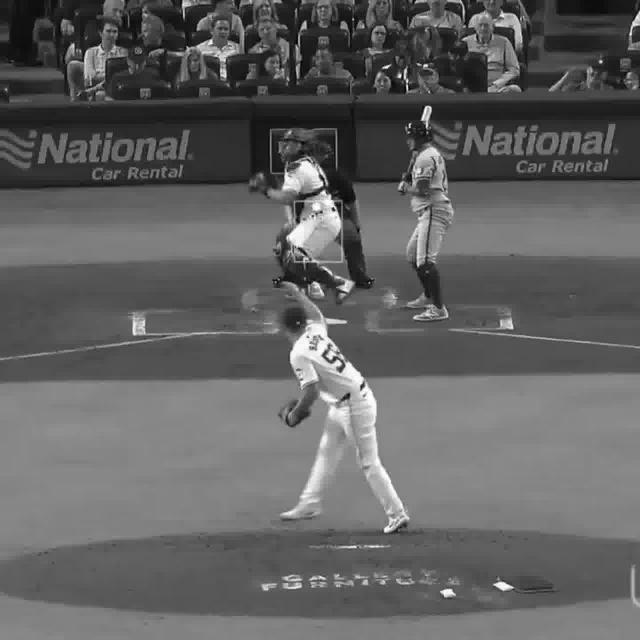base: (323, 313, 349, 325)
baseball_glove: (280, 398, 308, 432), (248, 171, 277, 195)
bat: (396, 99, 436, 195)
shoe: (281, 503, 330, 522), (382, 508, 408, 535), (412, 306, 448, 324), (338, 275, 357, 306), (406, 293, 434, 308)
